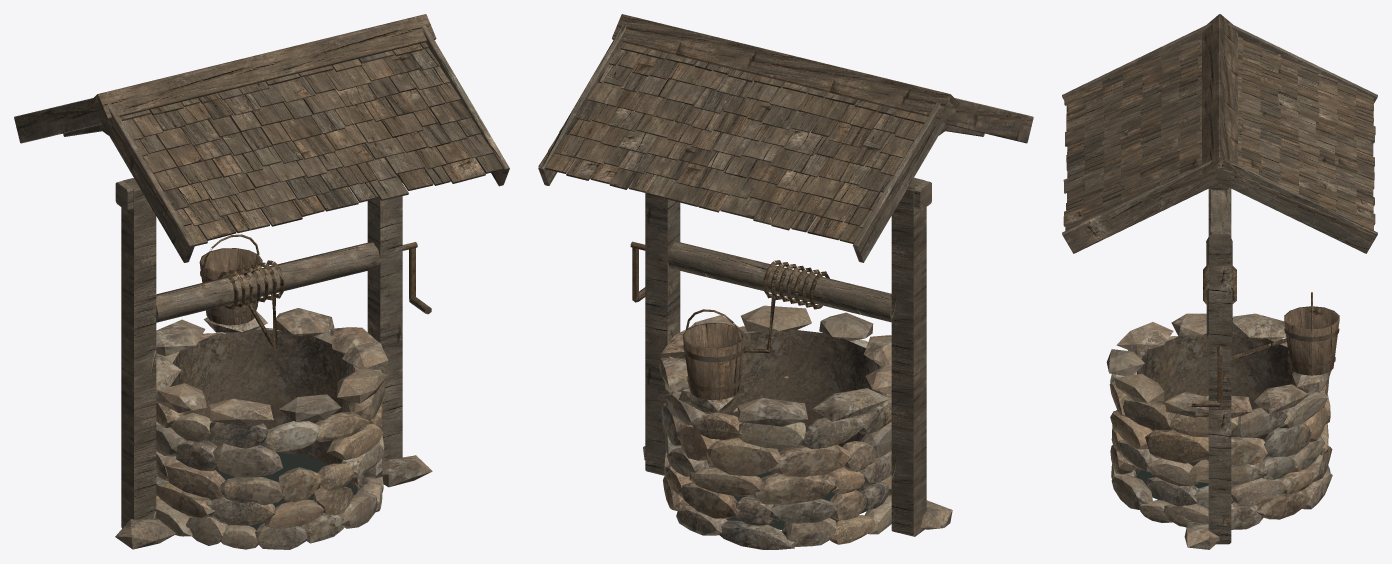
File: b_well.glb
3 renders of one model, left to right at view 1: azimuth 30°, elevation 25°; view 2: azimuth 150°, elevation 25°; view 3: azimuth 270°, elevation 25°, orthographic. The views are drawn at different scales.
Parts seen in each view (by area): view 1: b_well; view 2: b_well; view 3: b_well.
Part boxes in pixels (box(x1,y1,x2,y2)): b_well: box(14, 14, 509, 549); b_well: box(538, 14, 1033, 549); b_well: box(1062, 14, 1377, 549).
Size of the model in its own units: 1.92 by 2.49 by 1.79.
4 materials, 3 textured.
